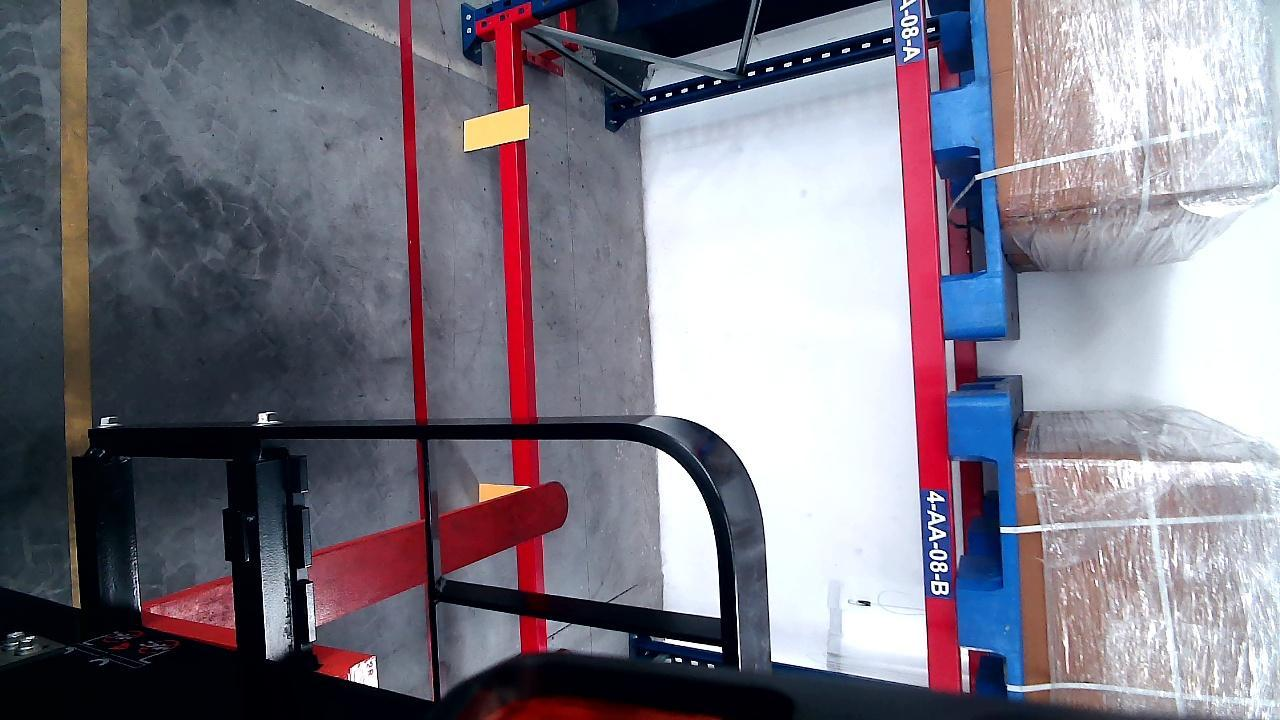red_line: (398, 0, 431, 427)
yellow_line: (60, 0, 95, 439)
